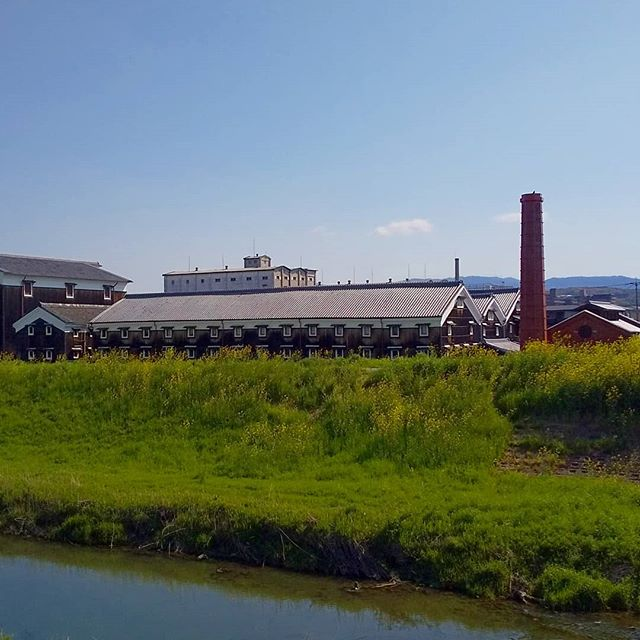building: (106, 272, 487, 365), (2, 258, 128, 354), (527, 258, 640, 349), (156, 255, 326, 298)
grass: (1, 354, 620, 566)
river: (10, 542, 640, 640)
sky: (1, 1, 631, 268)
